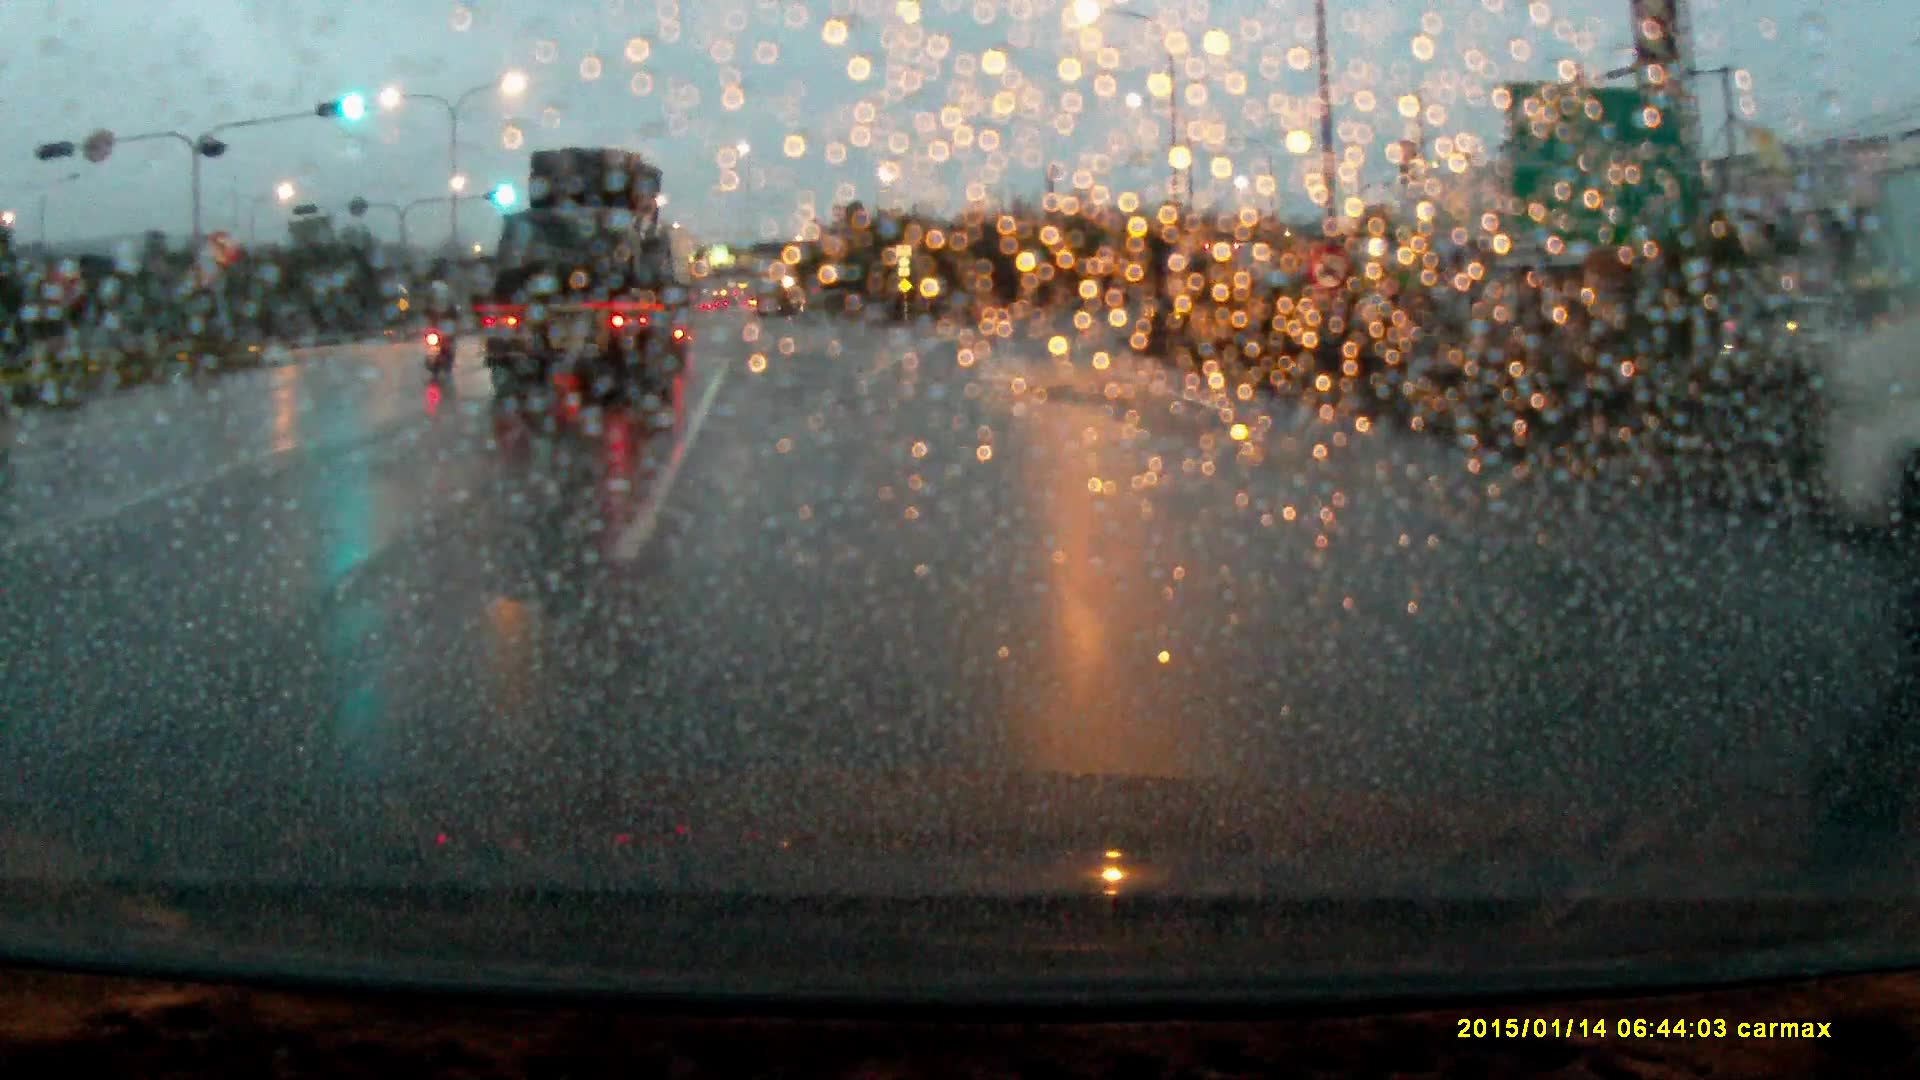rider: (408, 284, 460, 395)
vehicle: (481, 146, 693, 413)
